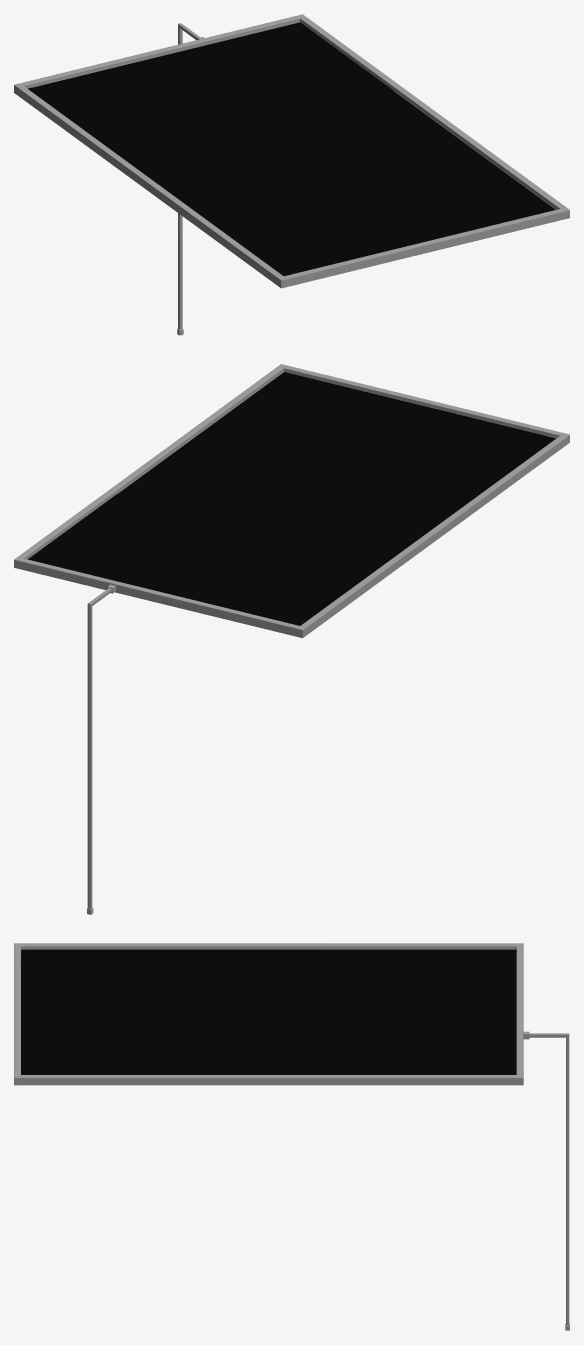
The model's file is shower_screen.glb.
3 views of the same model, one above another, from view 1: azimuth 30°, elevation 25°; view 2: azimuth 150°, elevation 25°; view 3: azimuth 270°, elevation 25° (orthographic). The views are drawn at different scales.
Visible parts, largest first — view 1: Model; view 2: Model; view 3: Model.
Part boxes in pixels (<box>): Model: <box>14,14,569,335</box>; Model: <box>14,364,569,914</box>; Model: <box>14,943,569,1330</box>.
Size of the model in its own units: 0.3432 by 0.3551 by 0.6.
1 material, 1 textured.
